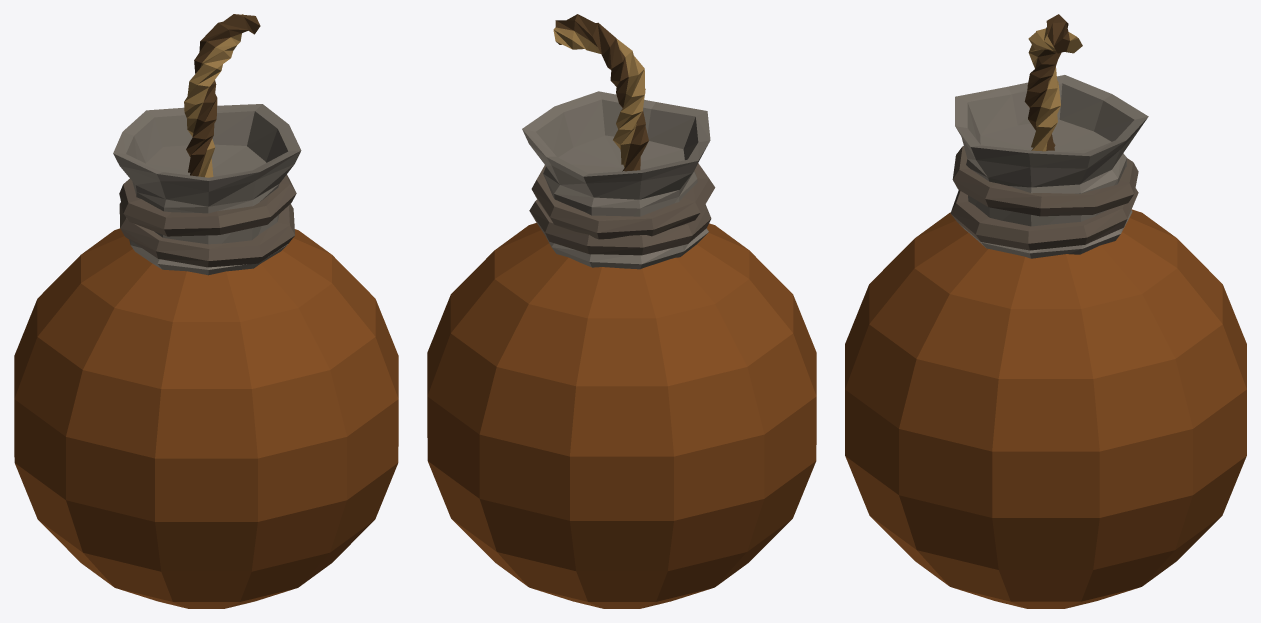
Rendered from bomb.glb.
The picture shows the model from 3 angles, left to right: view 1: azimuth 30°, elevation 25°; view 2: azimuth 150°, elevation 25°; view 3: azimuth 270°, elevation 25°; orthographic projection. The views are drawn at different scales.
Visible parts, largest first — view 1: smoke-bomb-body; view 2: smoke-bomb-body; view 3: smoke-bomb-body.
Part boxes in pixels (x1,y1,x2,y2): smoke-bomb-body: (14, 14, 398, 608); smoke-bomb-body: (427, 14, 816, 608); smoke-bomb-body: (845, 14, 1246, 608).
Size of the model in its own units: 0.0856 by 0.1357 by 0.0856.
